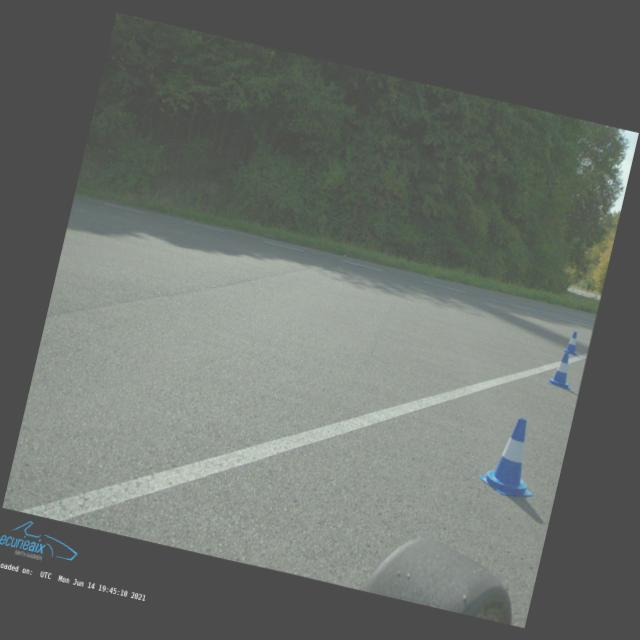blue_cone: (476, 412, 548, 501), (546, 350, 577, 390), (562, 329, 583, 356)
